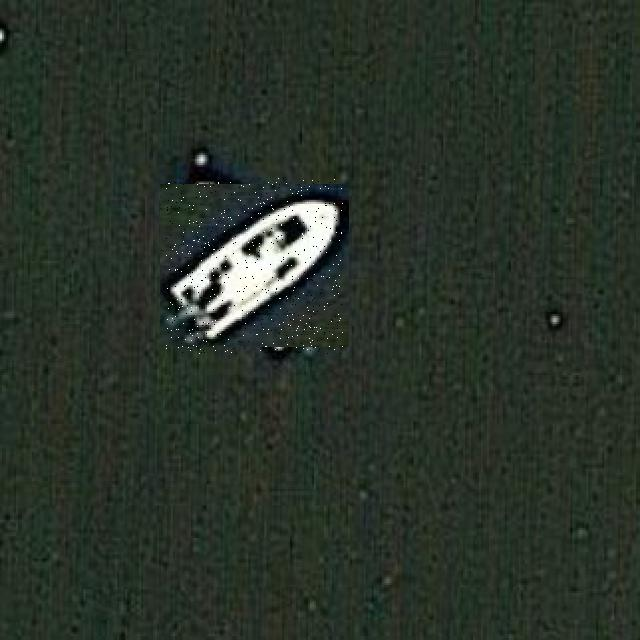boat: (166, 178, 343, 354)
